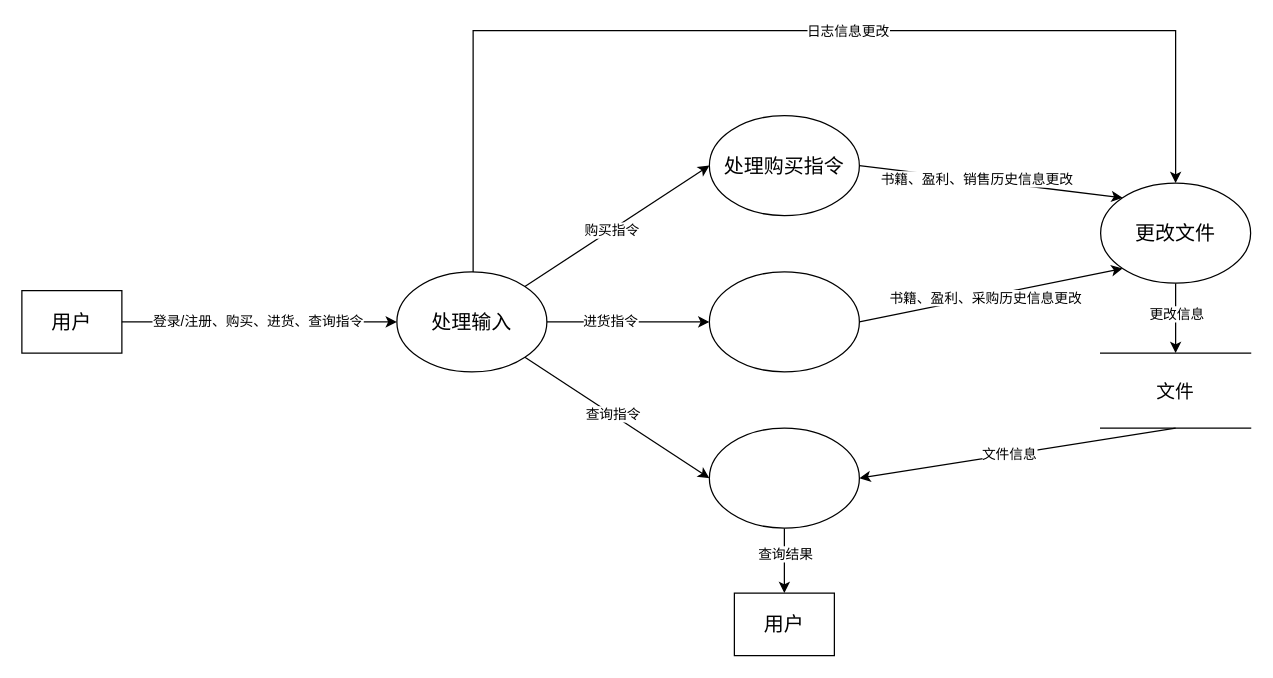
This 1273x678 diagram has some shape labels left out. Here are the shapes that lost their labels. From the top down, the centre of each, then its label:
At pixel 783 321: "处理进货指令".
At pixel 783 477: "处理查询指令".
